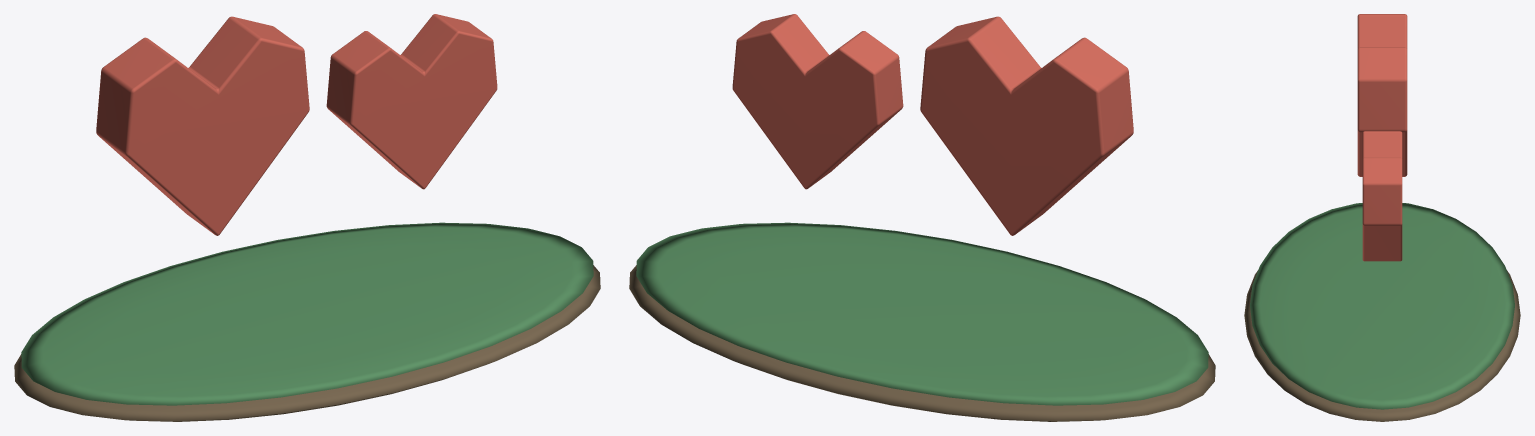
The model's file is heart-mood.glb.
3 renders of one model, left to right at view 1: azimuth 30°, elevation 25°; view 2: azimuth 150°, elevation 25°; view 3: azimuth 270°, elevation 25°, orthographic. The views are drawn at different scales.
Parts seen in each view (by area): view 1: heart-mood_surface_01, heart-mood_surface_02, heart-mood_surface_00; view 2: heart-mood_surface_01, heart-mood_surface_02, heart-mood_surface_00; view 3: heart-mood_surface_01, heart-mood_surface_02, heart-mood_surface_00.
Part boxes in pixels (x1,y1,x2,y2): heart-mood_surface_01: (21, 222, 593, 405); heart-mood_surface_02: (96, 14, 497, 235); heart-mood_surface_00: (14, 265, 600, 421); heart-mood_surface_01: (636, 222, 1208, 405); heart-mood_surface_02: (732, 14, 1133, 235); heart-mood_surface_00: (629, 265, 1215, 421); heart-mood_surface_01: (1250, 203, 1514, 409); heart-mood_surface_02: (1357, 14, 1407, 261); heart-mood_surface_00: (1244, 270, 1520, 421).
Size of the model in its own units: 4.56 by 2.57 by 2.5.
